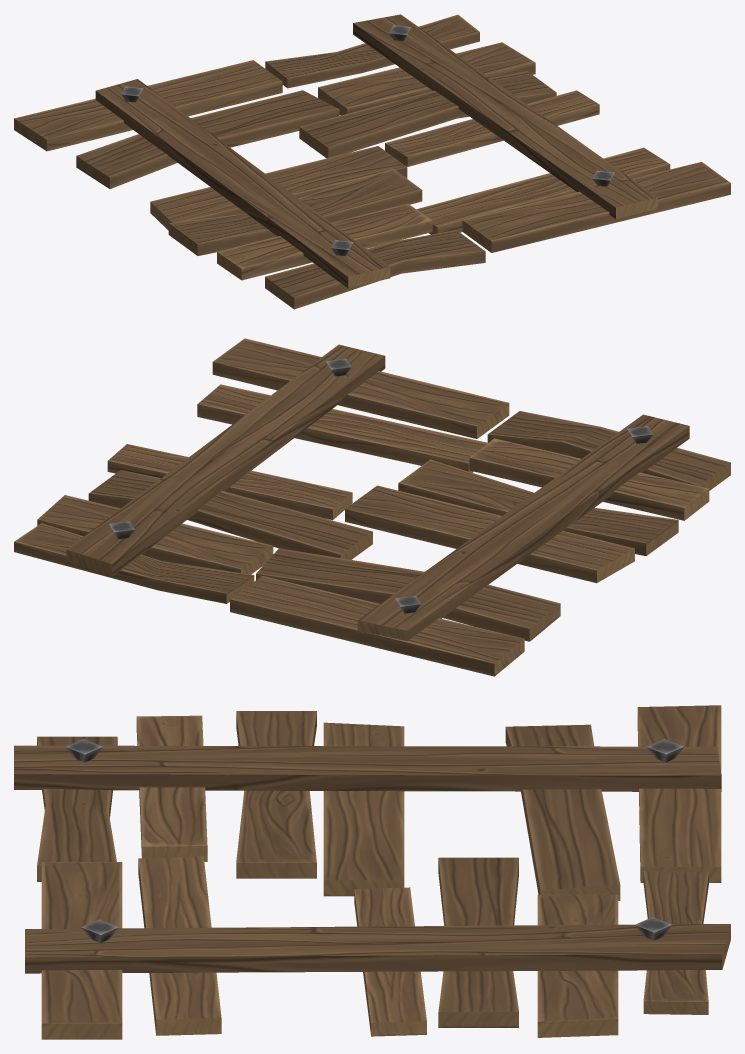
File: Wood_el_06.fbx
3 renders of one model, top to bottom at view 1: azimuth 30°, elevation 25°; view 2: azimuth 150°, elevation 25°; view 3: azimuth 270°, elevation 25°, orthographic. The views are drawn at different scales.
Parts seen in each view (by area): view 1: polySurface2104; view 2: polySurface2104; view 3: polySurface2104.
Part boxes in pixels (bbox=[...]): polySurface2104: bbox=[14, 14, 730, 309]; polySurface2104: bbox=[14, 338, 730, 676]; polySurface2104: bbox=[14, 705, 730, 1039].
Bounding box in the file's own units: 213 × 15.58 × 202.
Materials: 1 (1 with a texture image).
